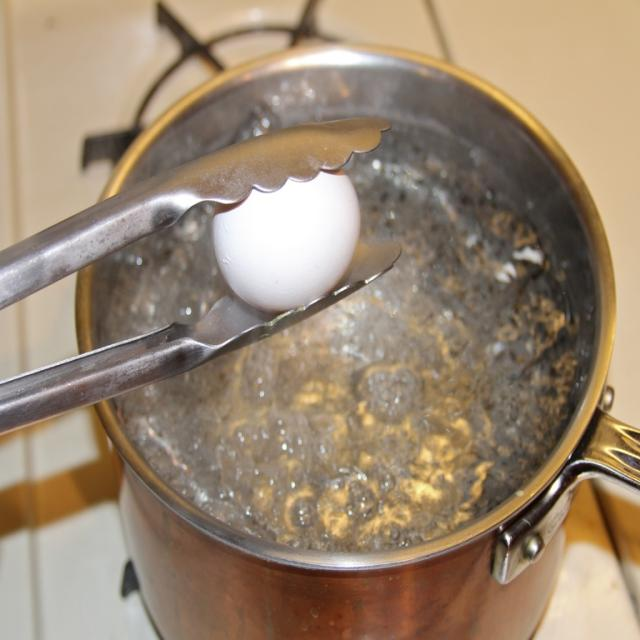Egg: (210, 176, 360, 309)
